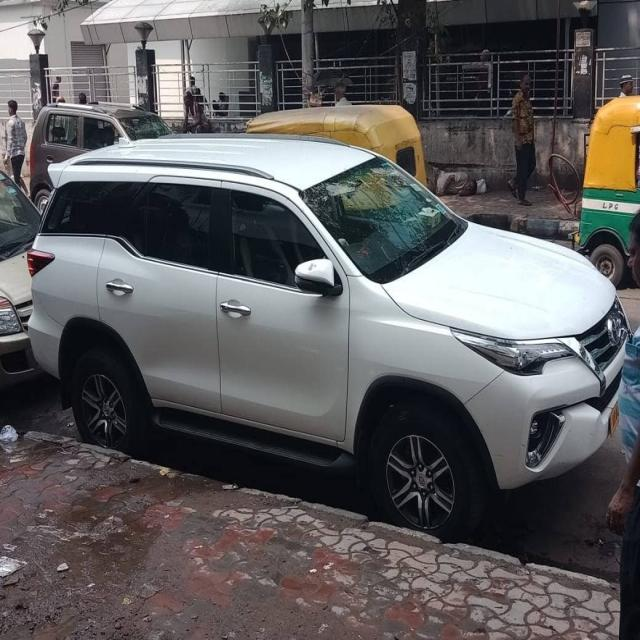light_vehicle: (27, 133, 633, 542)
